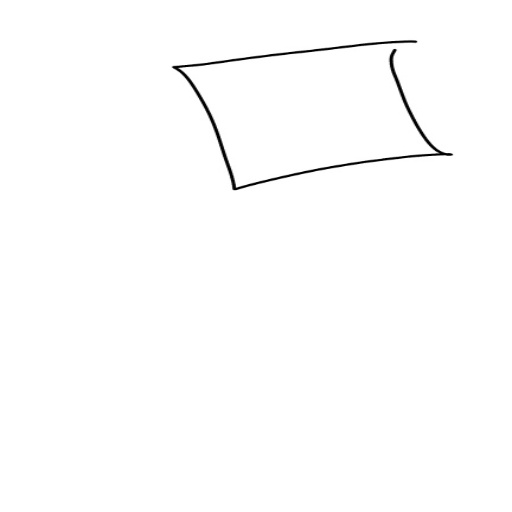square: (171, 20, 464, 314)
